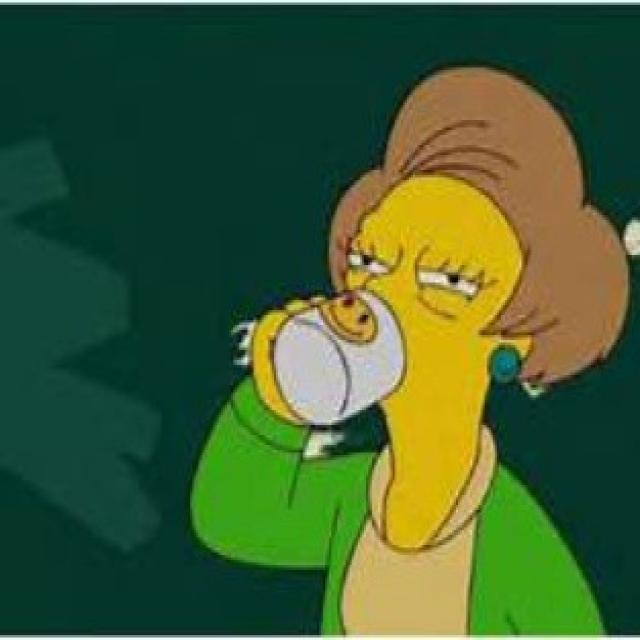Edna Krappel: (319, 58, 630, 558)
